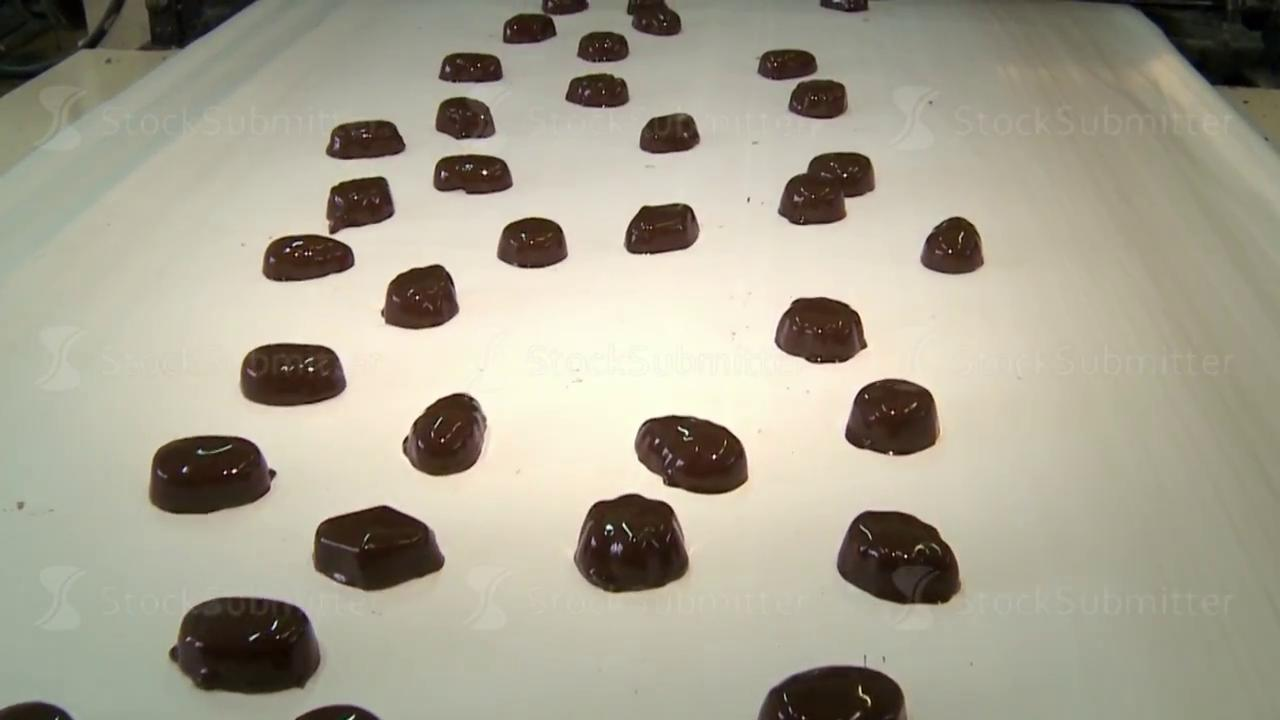chocolate: (170, 595, 321, 694), (837, 509, 961, 604), (312, 504, 444, 591), (574, 493, 689, 592), (149, 434, 273, 514), (635, 414, 748, 493), (758, 664, 907, 719), (845, 377, 939, 455), (402, 392, 487, 475), (240, 342, 346, 406), (774, 296, 867, 363), (381, 264, 458, 329), (262, 233, 354, 281), (624, 202, 699, 254), (326, 176, 394, 232), (921, 216, 984, 274), (497, 217, 567, 268), (778, 173, 846, 224), (326, 119, 405, 159), (433, 154, 512, 194), (808, 151, 875, 196), (435, 96, 495, 139), (640, 112, 699, 153), (565, 72, 628, 108), (789, 79, 847, 118), (438, 52, 502, 82), (627, 1, 681, 36), (757, 48, 817, 79), (503, 13, 556, 44), (577, 30, 628, 62)
